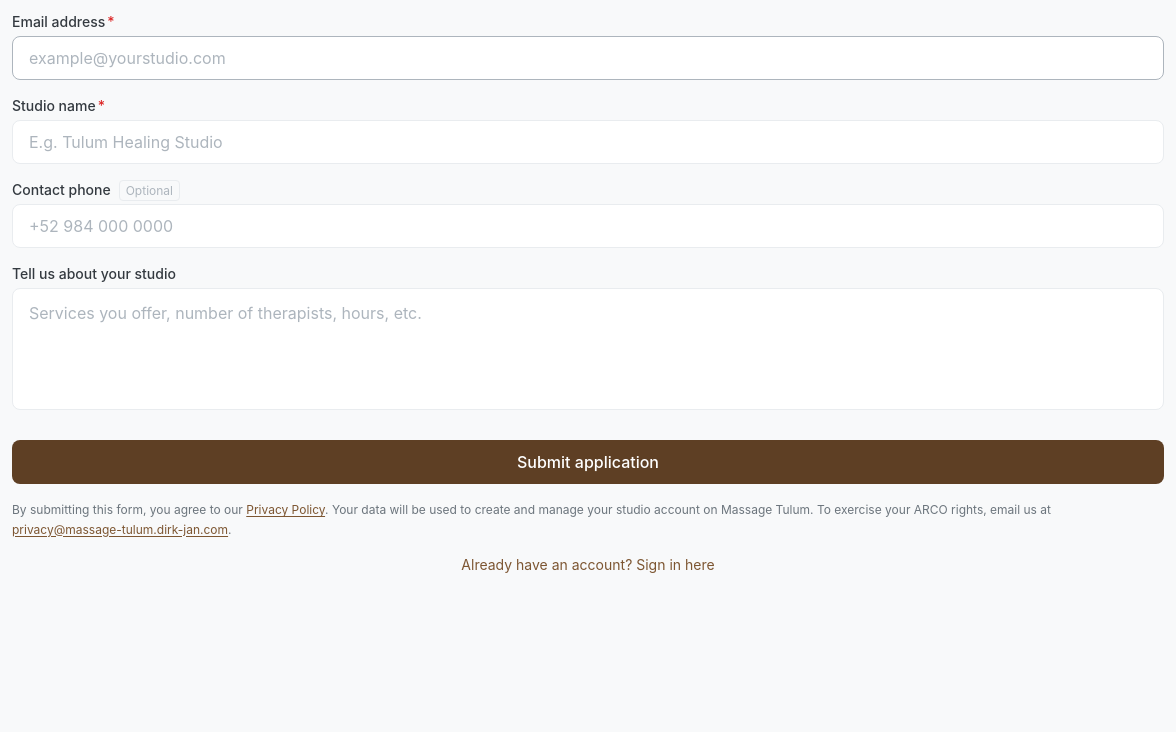
SignupForm › validation (fires on submit, not on blur) › shows studioNameRequired when studio name is empty
Step 1. Type "owner@studio.com" into the field labelled "Email address*" → (588, 58), box [12, 36, 1164, 80]
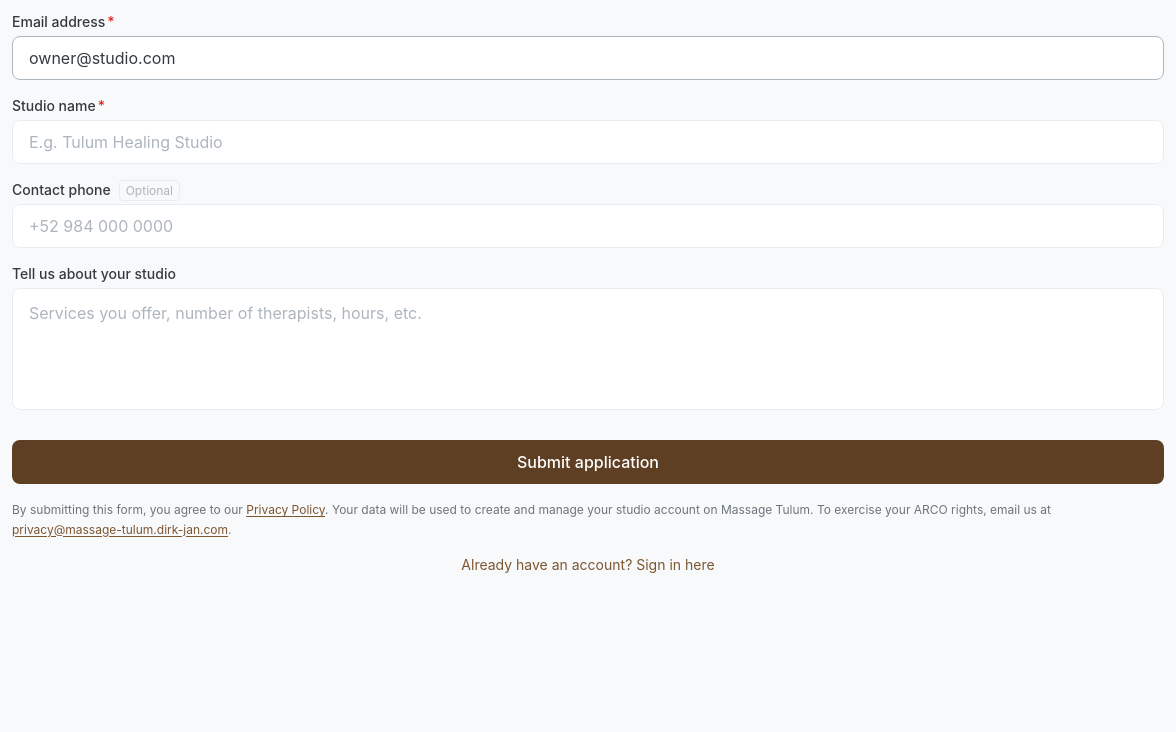
Step 2. Click the button "Submit application" → click(588, 462), box [12, 440, 1164, 484]
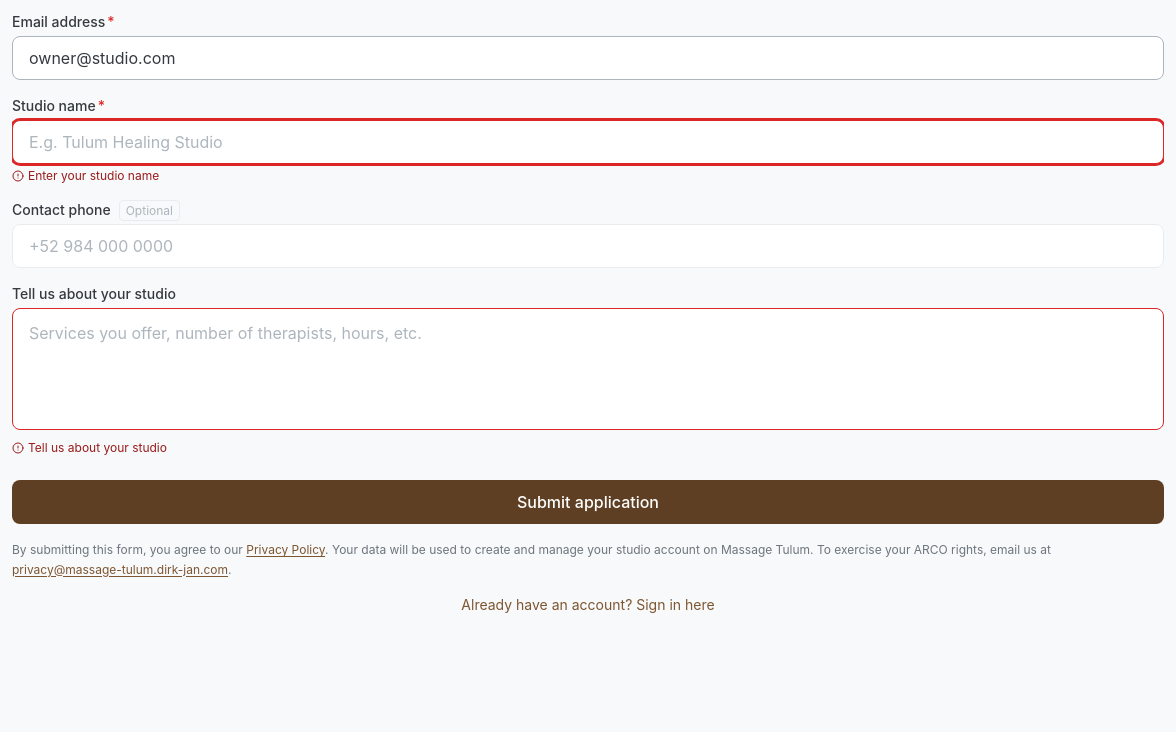
Expected: the text "Enter your studio name" is shown, [12, 168, 159, 183]
